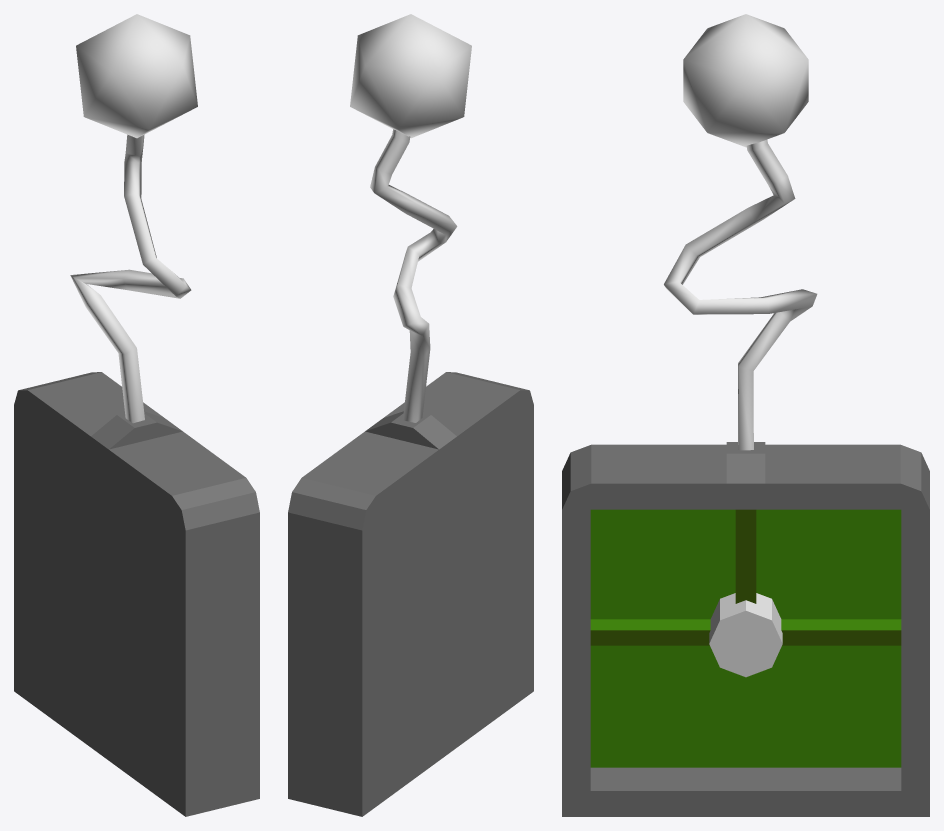
The model's file is Teleporter.fbx.
3 views of the same model, side by side, from view 1: azimuth 30°, elevation 25°; view 2: azimuth 150°, elevation 25°; view 3: azimuth 270°, elevation 25° (orthographic). The views are drawn at different scales.
Visible parts, largest first — view 1: Cube, Icosphere, BézierCurve; view 2: Cube, Icosphere, BézierCurve; view 3: Cube, Icosphere, BézierCurve, Cylinder.
Part boxes in pixels (x1,y1,x2,y2): Cube: [14, 372, 259, 816]; Icosphere: [76, 14, 197, 138]; BézierCurve: [70, 134, 191, 423]; Cube: [288, 372, 533, 816]; Icosphere: [350, 14, 471, 138]; BézierCurve: [370, 129, 457, 422]; Cube: [562, 442, 929, 816]; Icosphere: [683, 14, 808, 147]; BézierCurve: [664, 139, 817, 450]; Cylinder: [709, 593, 782, 677].
Bounding box in the file's own units: 0.1431 × 0.94 × 0.4.
